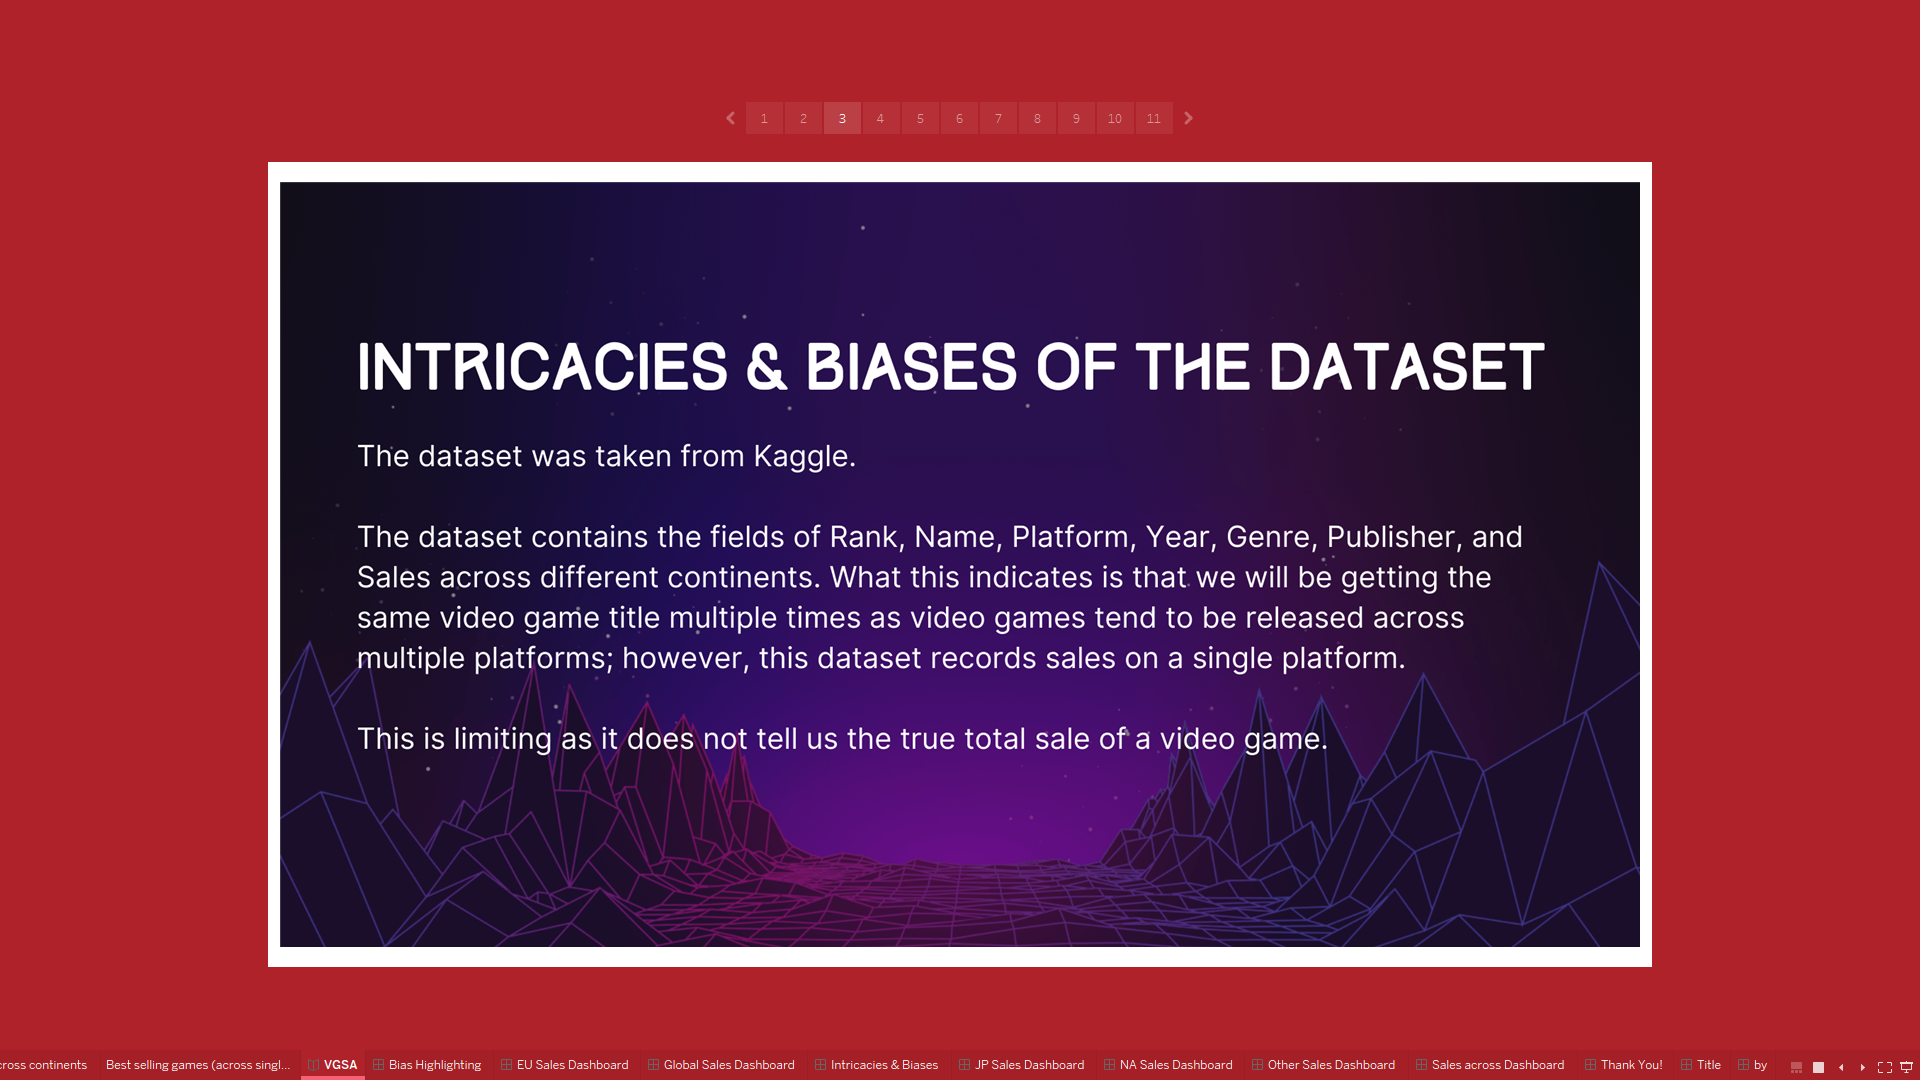

The dashboard page shown, as its layout file describes it:
{"tool":"tableau","page":{"name":"Intricacies & Biases","canvas":[1000,1000],"units":"permille","ordinal":3},"visuals":[{"type":"image","param":"C:/Users/pc/Downloads/Video Game Sales Analysis (3).png","box":[4.7,8.8,990.6,982.3]}]}

Visuals, with their boxes on the dashboard's canvas, which has no fixed pixel size, in thousandths of its width and height (x1, y1, x2, y2). These are canvas units, not pixel positions in the 1920x1080 screenshot, which may show the page scaled, cropped or inside an application window:
image: box(5, 9, 995, 991)
